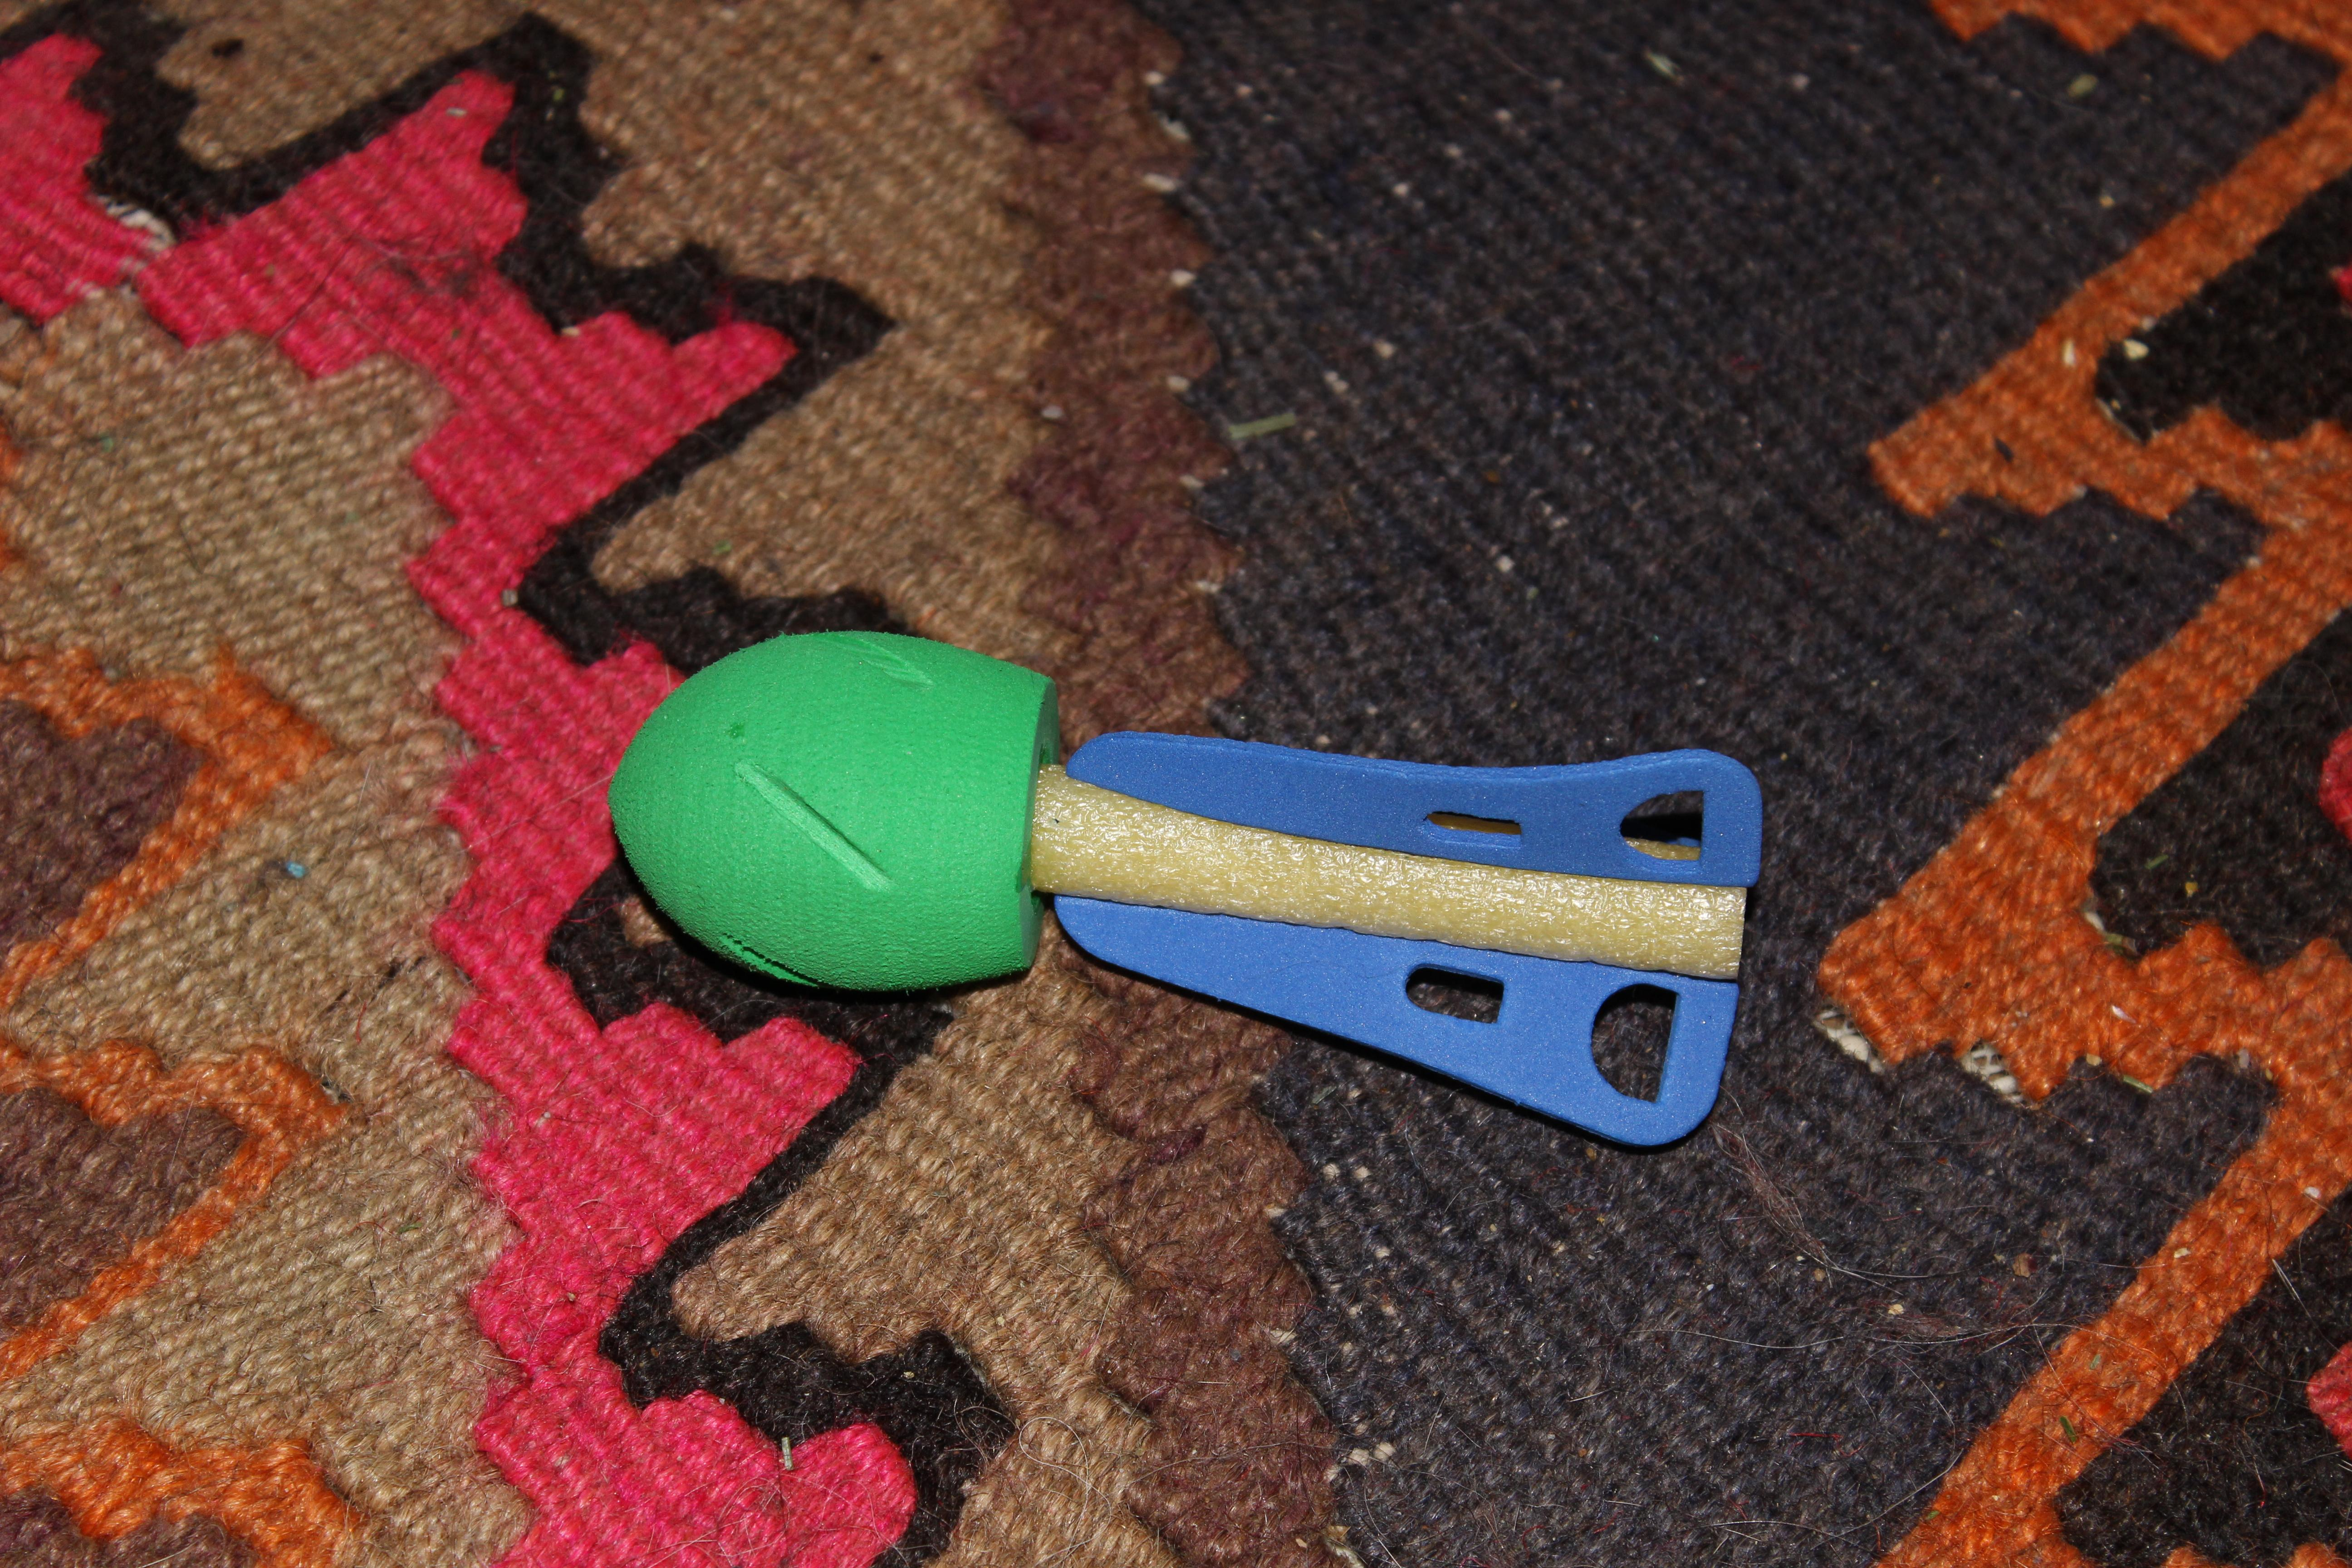foamDart: (574, 572, 1804, 1195)
